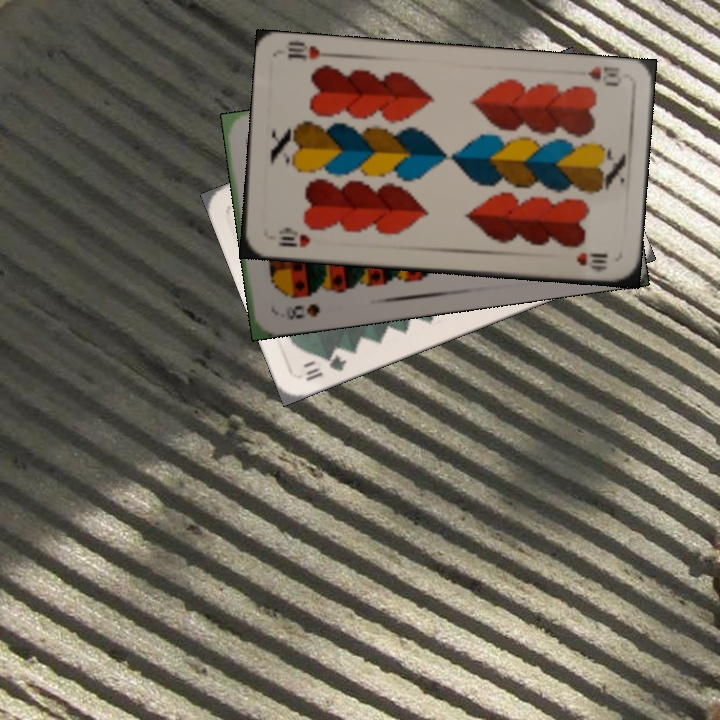G10: (301, 349, 349, 384)
H10: (583, 62, 622, 89), (274, 225, 313, 250)
S8: (284, 299, 323, 323)
